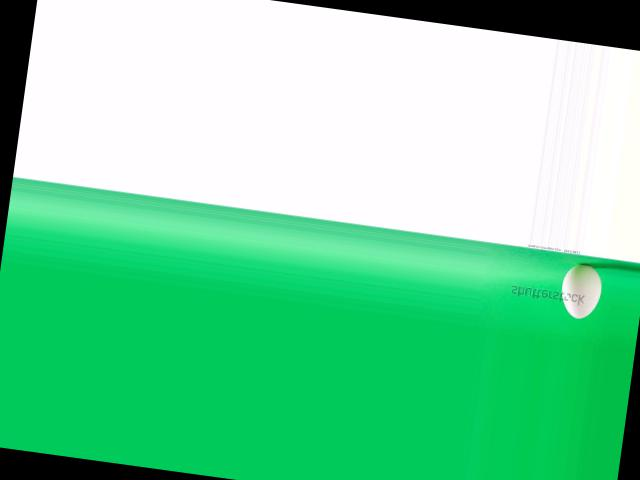egg: (558, 260, 605, 320)
